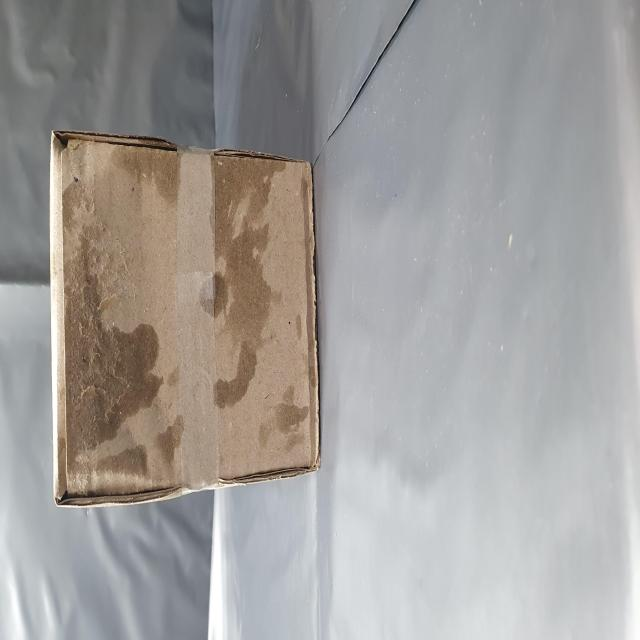wet: (76, 96, 286, 327), (129, 378, 276, 487)
